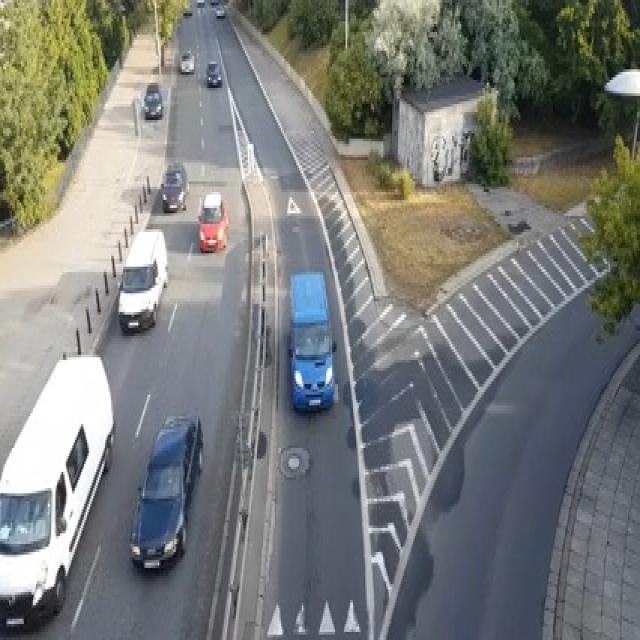bus: (0, 349, 116, 627), (287, 269, 335, 411)
car: (129, 413, 203, 571), (117, 227, 168, 333), (197, 189, 228, 251), (159, 160, 188, 211), (141, 83, 162, 117), (206, 59, 221, 85), (179, 48, 194, 72), (184, 0, 192, 16), (215, 3, 224, 16), (195, 0, 204, 5), (210, 0, 217, 5)
